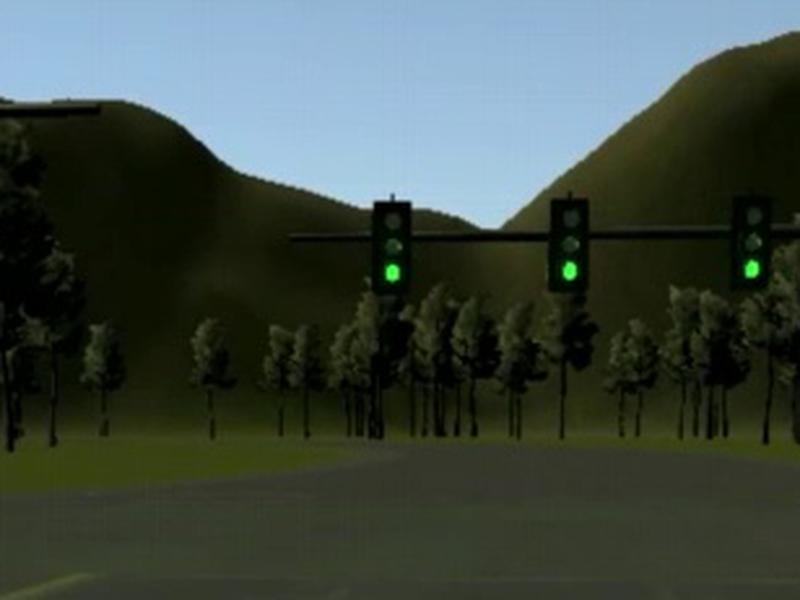Green: (373, 202, 412, 295), (551, 198, 589, 292), (732, 198, 771, 288)
